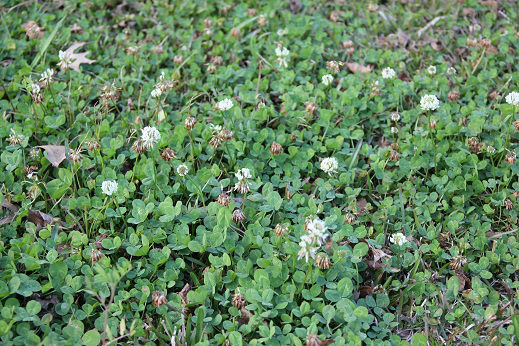clover: (4, 2, 519, 343)
